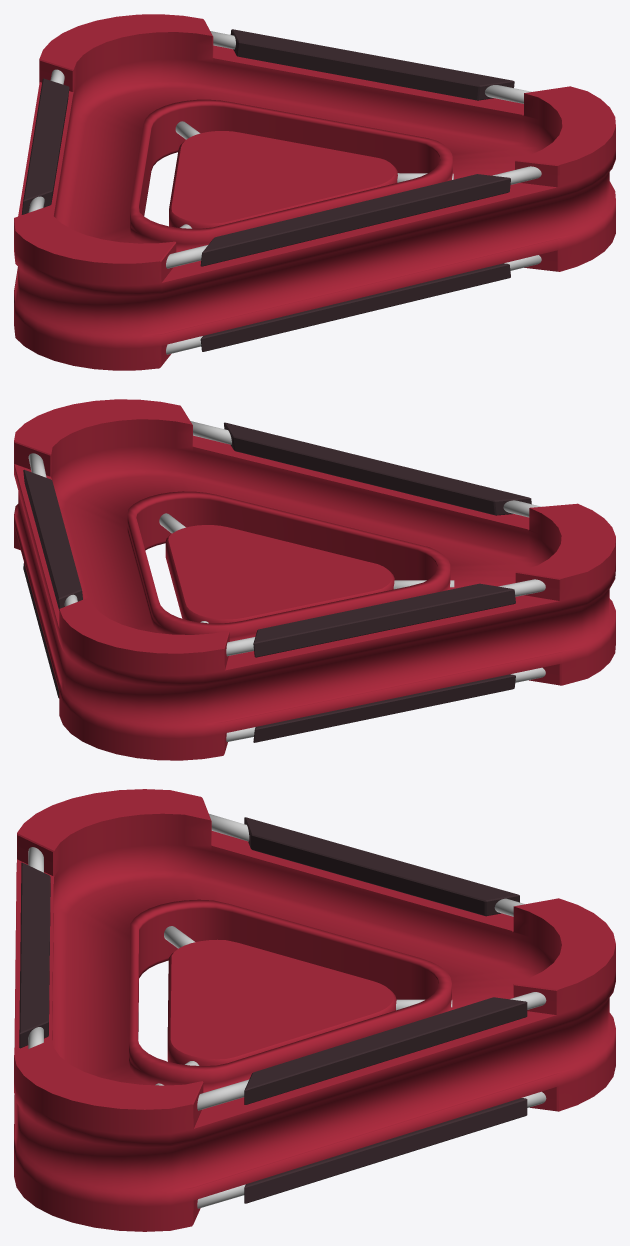
Rendered from boxred02.fbx.
3 views of the same model, one above another, from view 1: azimuth 30°, elevation 25°; view 2: azimuth 150°, elevation 25°; view 3: azimuth 270°, elevation 25° (orthographic). The views are drawn at different scales.
Parts seen in each view (by area): view 1: Cube.001; view 2: Cube.001; view 3: Cube.001.
Boxes of the visible parts, bbox=[...] form: Cube.001: bbox=[14, 14, 615, 370]; Cube.001: bbox=[14, 399, 615, 760]; Cube.001: bbox=[14, 789, 615, 1231].
Size of the model in its own units: 580 by 103 by 460.
